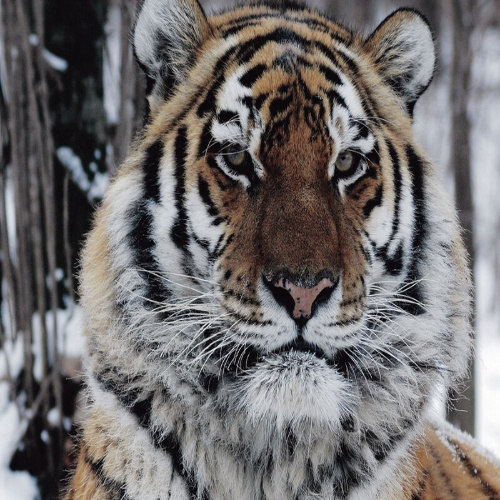tiger: (132, 15, 428, 442)
